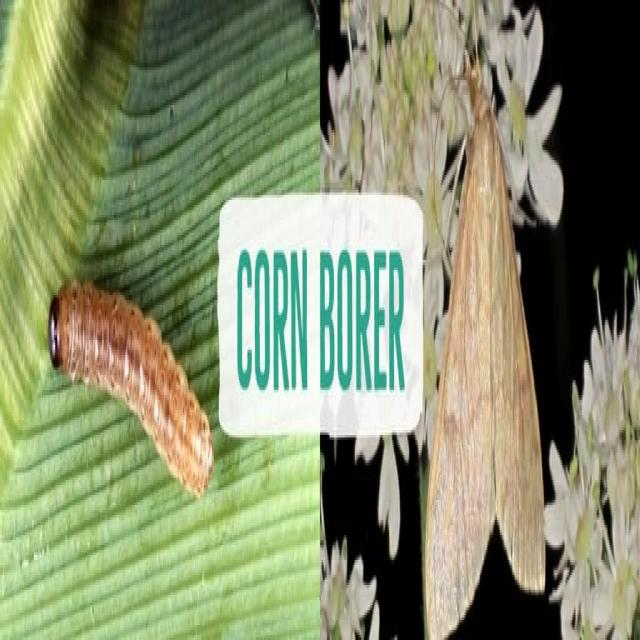cornborer-Adult-: (422, 18, 548, 638)
cornborer-Larva-: (31, 237, 216, 547)
